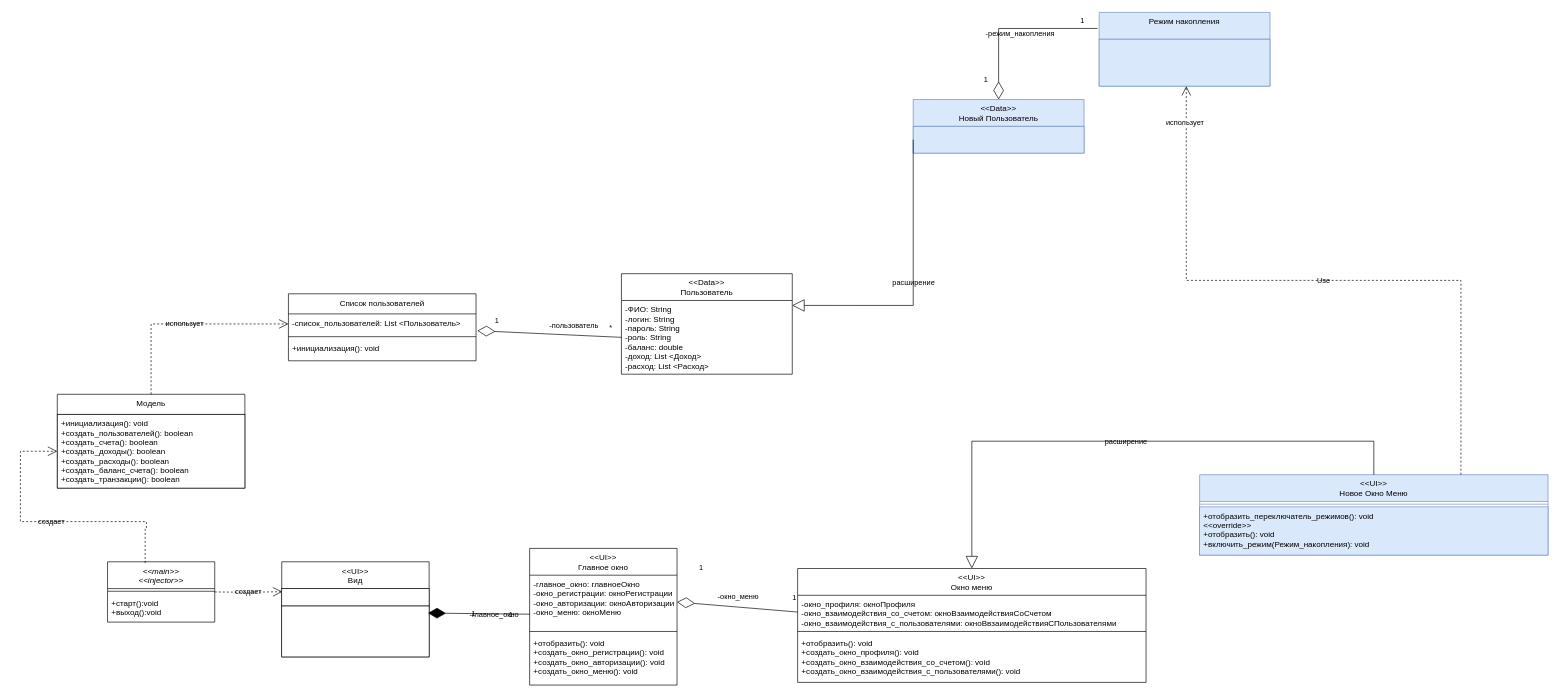
The diagram is 1560 pixels wide and 699 high, and some of its shapes have lost their labels. The centre of each missing label's shape, as x and y in pixels:
"+инициализация(): void +создать_главное_окно(): void" goes at point 355,631.
"-главное_окно: главноеОкно" goes at point 355,597.
"-обычный_режим: String -режим_накопления: String +включить_режим(String): void" goes at point 1184,62.
"-режимы: Режим_накопления" goes at point 998,139.
